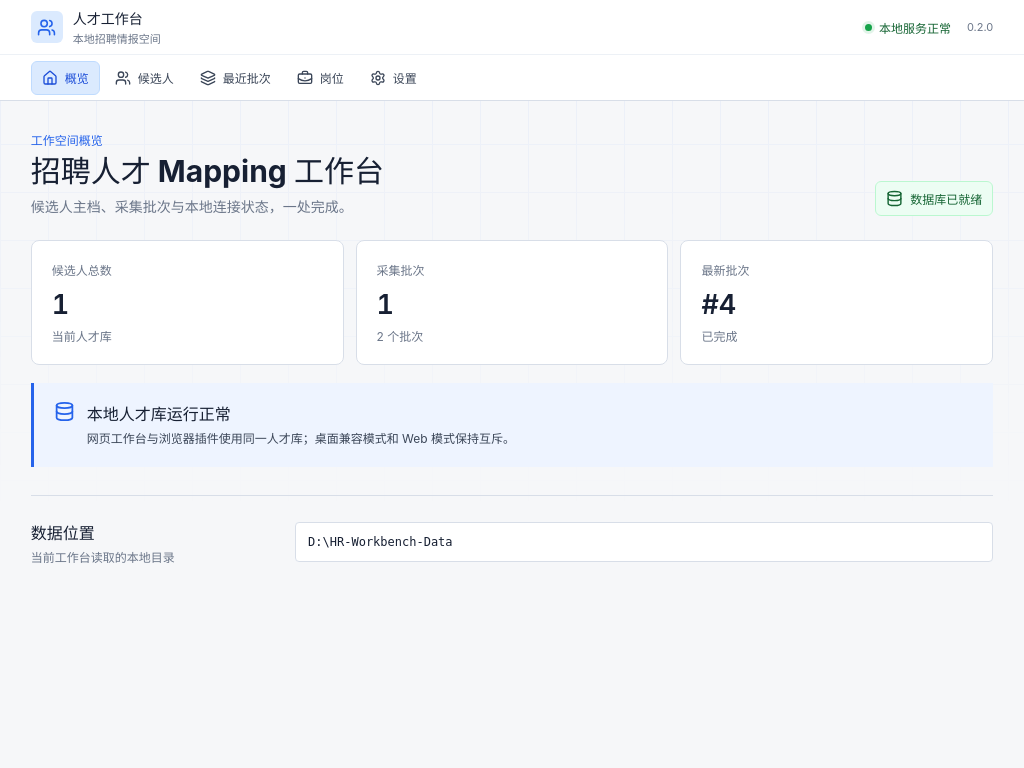
Scenario: workbench candidate intake views › hides keyword rule editing for non-running recruitment tasks
Click the button "岗位". click: (320,78)
box: [286, 60, 355, 94]
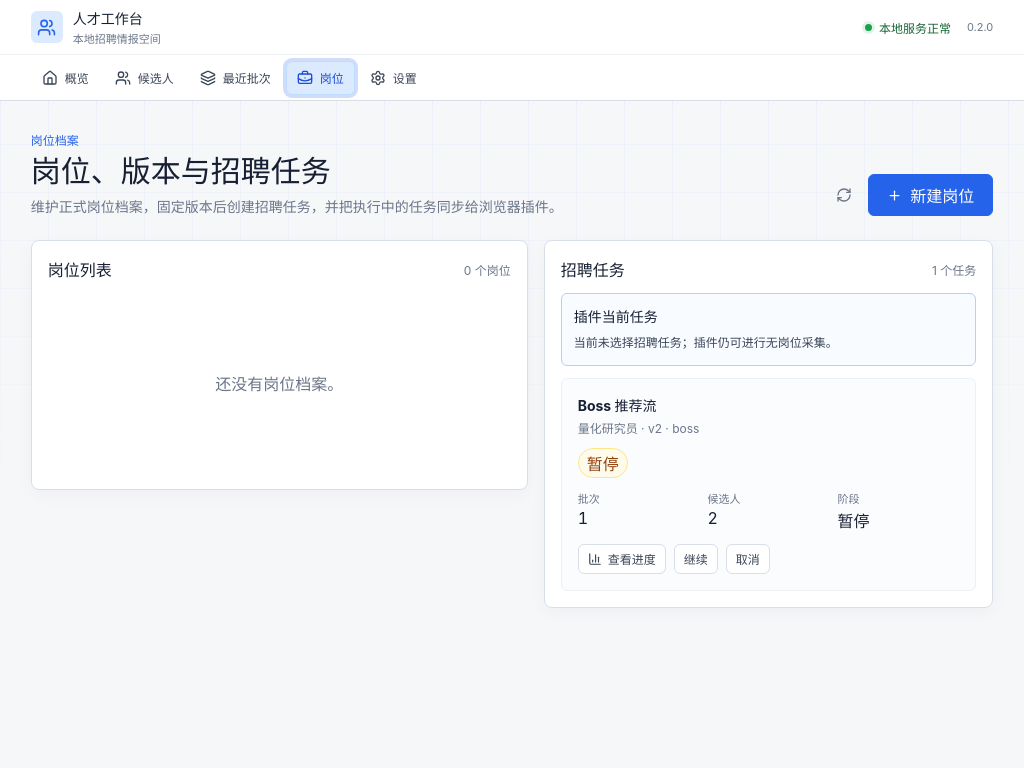
Expected: the text "Boss 推荐流" is shown, [578, 397, 657, 414]
